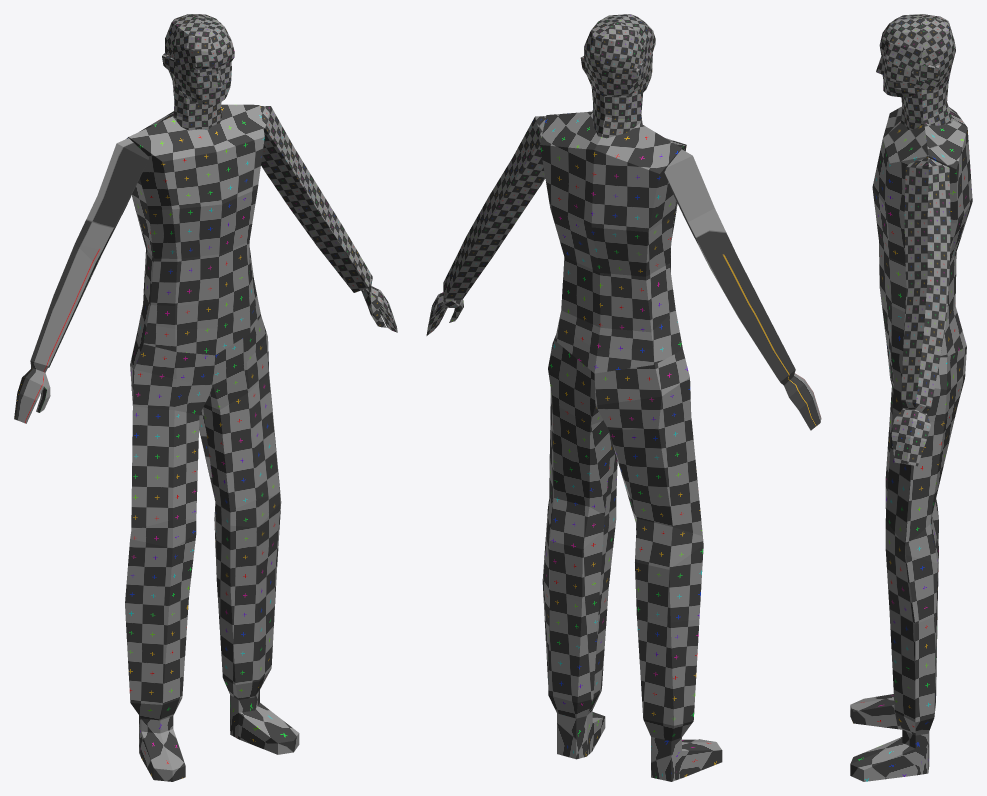
The model's file is charaterblank.glb.
3 renders of one model, left to right at view 1: azimuth 30°, elevation 25°; view 2: azimuth 150°, elevation 25°; view 3: azimuth 270°, elevation 25°, orthographic. The views are drawn at different scales.
Visible parts, largest first — view 1: Cube, Cube.002, Cube.003; view 2: Cube, Cube.002, Cube.003; view 3: Cube, Cube.002, Cube.003.
Boxes of the visible parts, x1=… form: Cube: x1=125, y1=104, x2=299, y2=781; Cube.002: x1=14, y1=106, x2=397, y2=423; Cube.003: x1=162, y1=14, x2=234, y2=130; Cube: x1=540, y1=111, x2=722, y2=781; Cube.002: x1=426, y1=116, x2=821, y2=430; Cube.003: x1=580, y1=14, x2=655, y2=138; Cube: x1=850, y1=106, x2=972, y2=781; Cube.002: x1=891, y1=157, x2=950, y2=466; Cube.003: x1=876, y1=14, x2=955, y2=129.
Bounding box in the file's own units: 1.03 × 1.86 × 0.2839.
6 materials, 6 textured.
